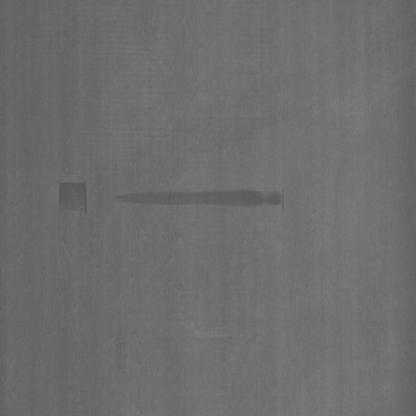rolled_pit: (55, 166, 93, 224)
